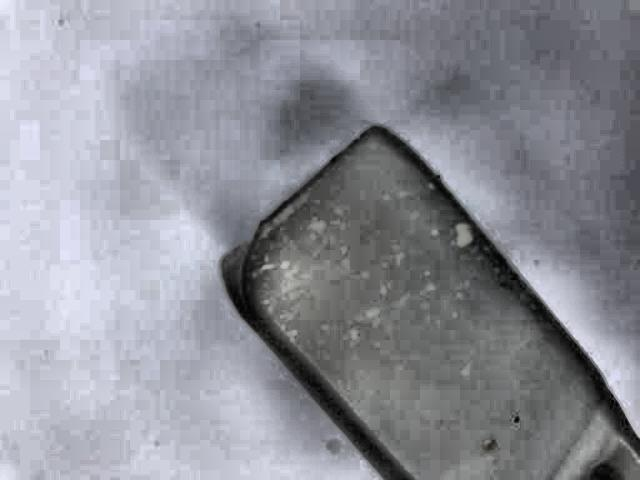Plastic: (205, 118, 640, 480)
